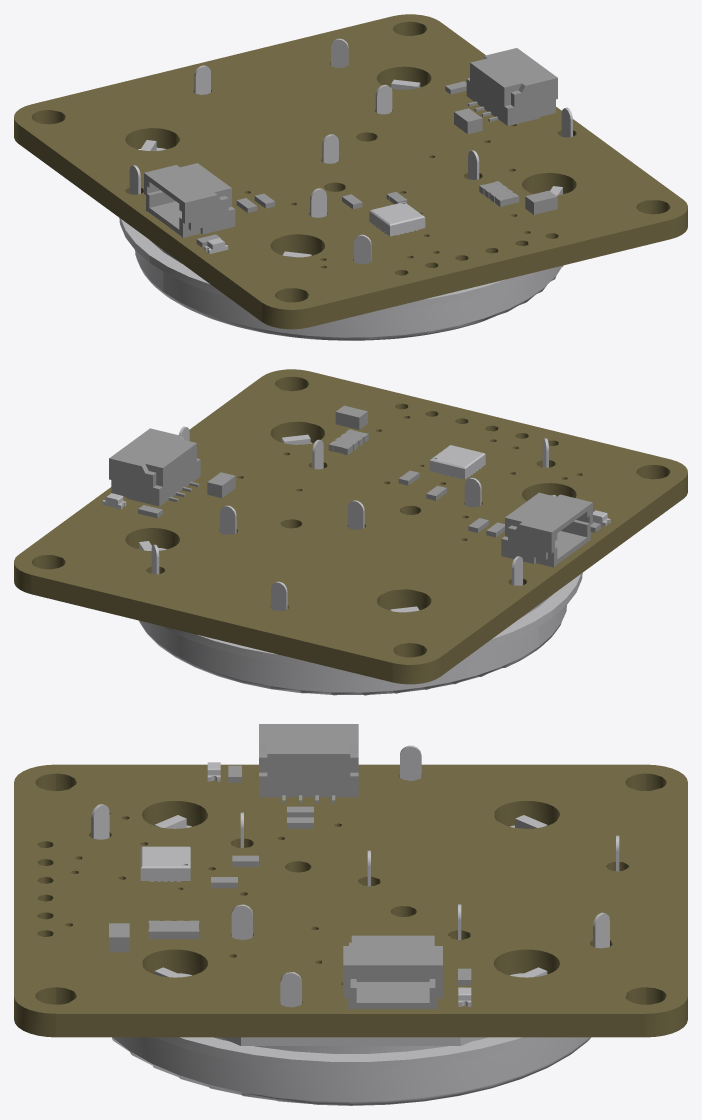
File: ada-5740.glb
3 renders of one model, top to bottom at view 1: azimuth 30°, elevation 25°; view 2: azimuth 150°, elevation 25°; view 3: azimuth 270°, elevation 25°, orthographic. The views are drawn at different scales.
Parts seen in each view (by area): view 1: 0.16666666666666666_0.16666666666666666_0.08333333333333333_, 0.5833333333333334_0.5833333333333334_0.5833333333333334_0.8, 0.3333333333333333_0.3333333333333333_0.3333333333333333_0; view 2: 0.16666666666666666_0.16666666666666666_0.08333333333333333_, 0.5833333333333334_0.5833333333333334_0.5833333333333334_0.8, 0.3333333333333333_0.3333333333333333_0.3333333333333333_0; view 3: 0.16666666666666666_0.16666666666666666_0.08333333333333333_, 0.5833333333333334_0.5833333333333334_0.5833333333333334_0.8, 0.3333333333333333_0.3333333333333333_0.3333333333333333_0.
Boxes of the visible parts, left/top/right/bottom form: 0.16666666666666666_0.16666666666666666_0.08333333333333333_: left=14, top=14, right=687, bottom=329; 0.5833333333333334_0.5833333333333334_0.5833333333333334_0.8: left=119, top=38, right=572, bottom=340; 0.3333333333333333_0.3333333333333333_0.3333333333333333_0: left=144, top=48, right=557, bottom=247; 0.16666666666666666_0.16666666666666666_0.08333333333333333_: left=14, top=369, right=687, bottom=684; 0.5833333333333334_0.5833333333333334_0.5833333333333334_0.8: left=102, top=426, right=610, bottom=695; 0.3333333333333333_0.3333333333333333_0.3333333333333333_0: left=109, top=405, right=600, bottom=567; 0.16666666666666666_0.16666666666666666_0.08333333333333333_: left=14, top=764, right=687, bottom=1037; 0.5833333333333334_0.5833333333333334_0.5833333333333334_0.8: left=91, top=745, right=619, bottom=1105; 0.3333333333333333_0.3333333333333333_0.3333333333333333_0: left=109, top=724, right=471, bottom=1009.
Size of the model in its own units: 3.56 by 1.03 by 4.06.
